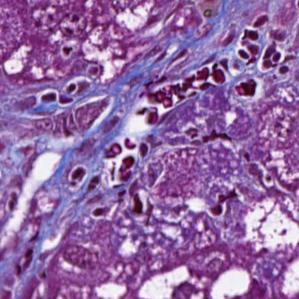inflammation: (36, 83, 83, 109)
